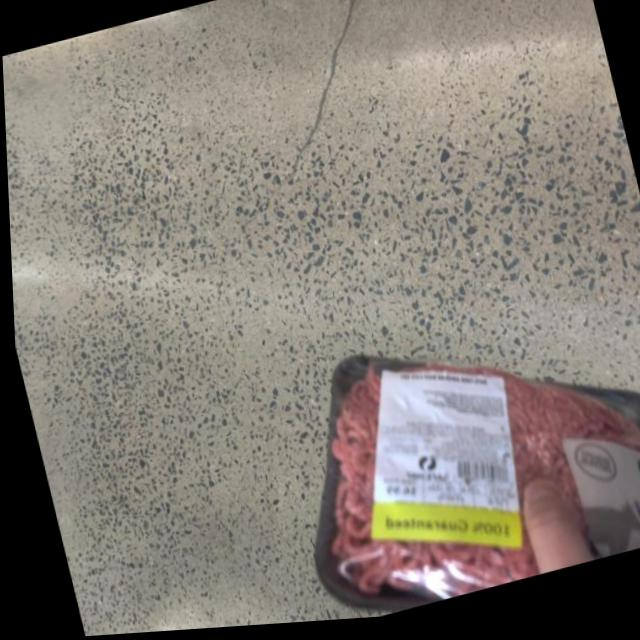Meat: (290, 272, 640, 625)
